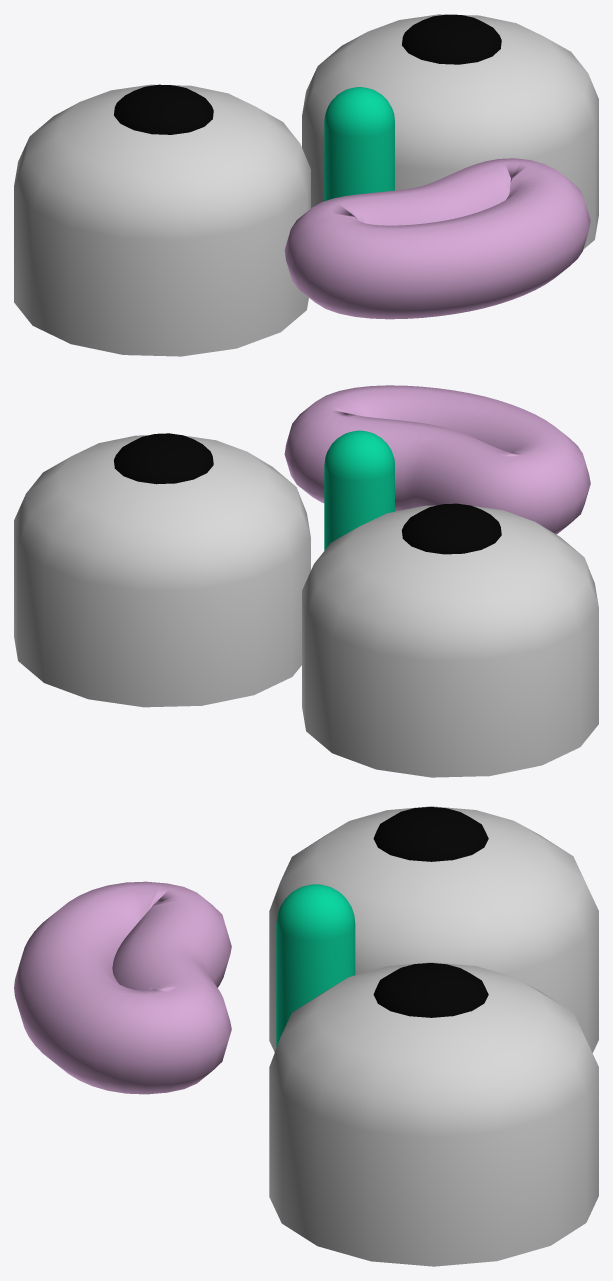
3 views of the same model, one above another, from view 1: azimuth 30°, elevation 25°; view 2: azimuth 150°, elevation 25°; view 3: azimuth 270°, elevation 25° (orthographic). The views are drawn at different scales.
Parts seen in each view (by area): view 1: BezierCircle_001; view 2: BezierCircle_001; view 3: BezierCircle_001.
Boxes of the visible parts, box(x1,y1,x2,y2) form: BezierCircle_001: box(14, 14, 598, 356); BezierCircle_001: box(14, 385, 598, 777); BezierCircle_001: box(14, 806, 598, 1266).
Bounding box in the file's own units: 0.9298 × 0.7744 × 0.3368.
